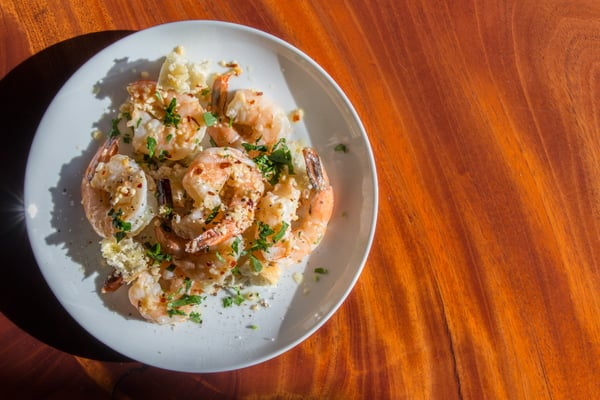curry: (3, 1, 599, 390)
